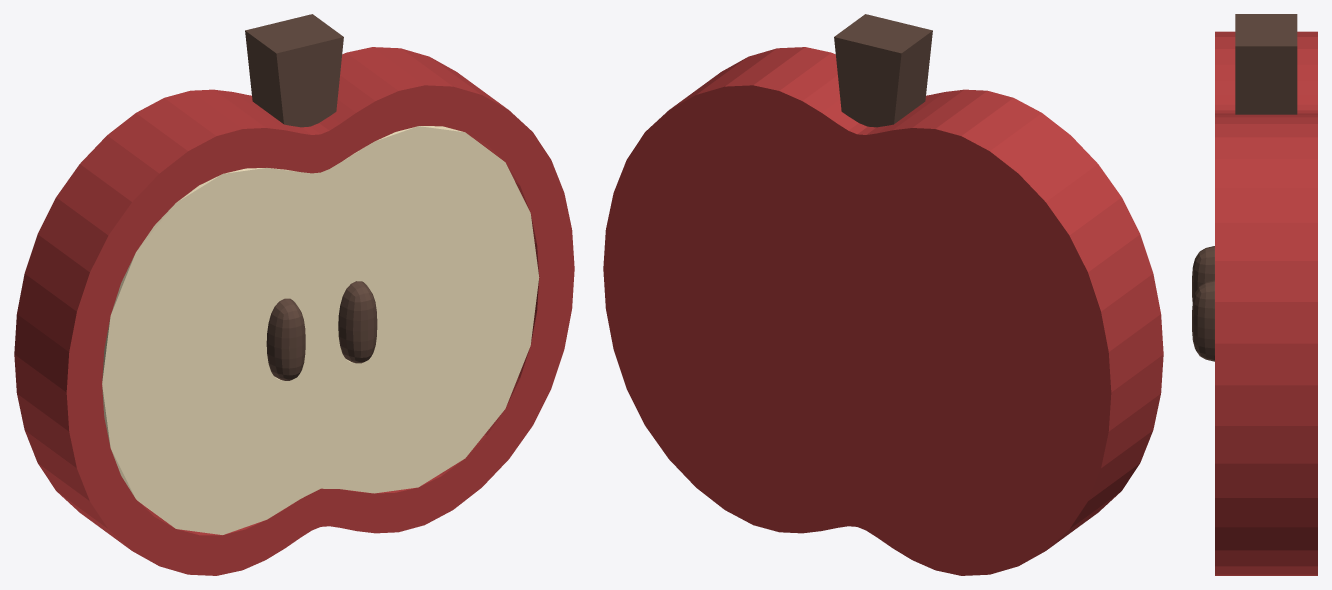
Rendered from apple.glb.
The picture shows the model from 3 angles, left to right: view 1: azimuth 30°, elevation 25°; view 2: azimuth 150°, elevation 25°; view 3: azimuth 270°, elevation 25°; orthographic projection.
Parts seen in each view (by area): view 1: Plane.194, Plane.161, Plane.155, Plane.160; view 2: Plane.161, Plane.155; view 3: Plane.161, Plane.155, Plane.160.
Part boxes in pixels (box(x1,y1,x2,y2)): Plane.194: box(102, 126, 539, 534); Plane.161: box(14, 47, 574, 575); Plane.155: box(245, 14, 343, 127); Plane.160: box(266, 281, 377, 380); Plane.161: box(603, 47, 1163, 575); Plane.155: box(834, 14, 932, 127); Plane.161: box(1215, 31, 1317, 575); Plane.155: box(1235, 14, 1297, 114); Plane.160: box(1192, 246, 1214, 361).
Size of the model in its own units: 14 by 13.13 by 3.05.
